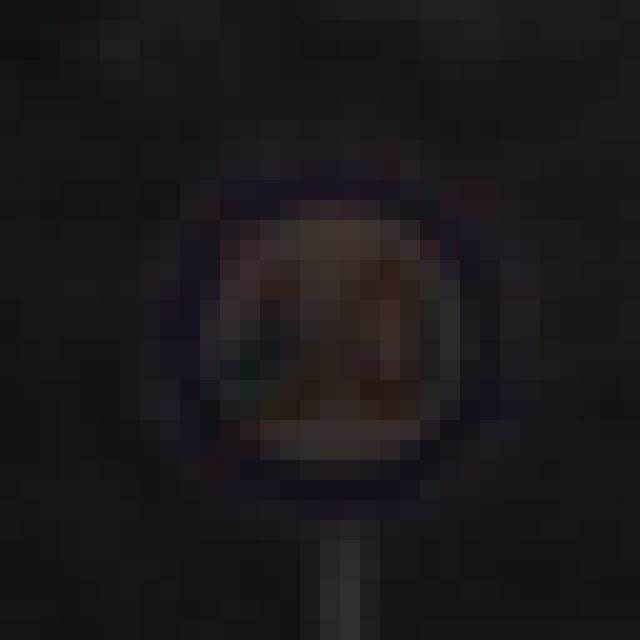SPEED-LIMIT-60: (146, 140, 535, 525)
